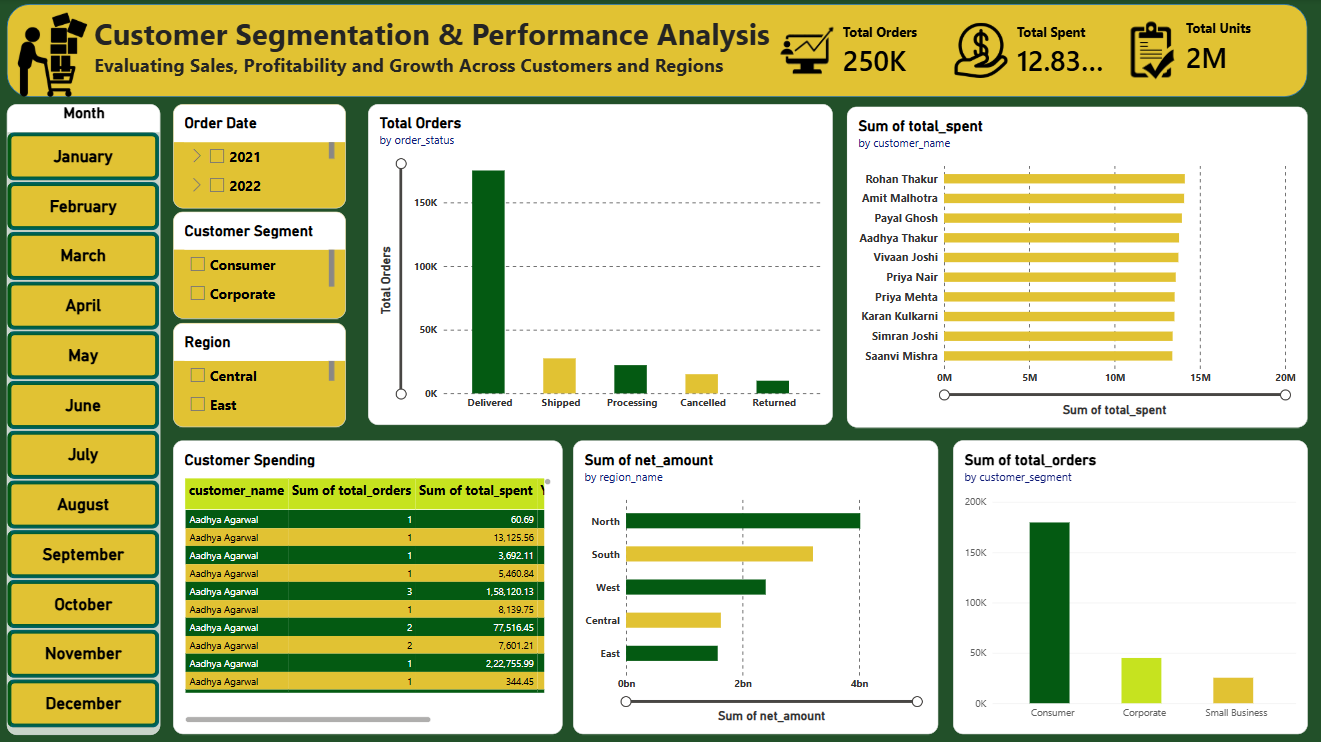

The page's visual inventory and layout, read from the dashboard file:
{"tool":"powerbi","page":{"name":"Customer & Regional Analysis","canvas":[1920,1080],"ordinal":2},"visuals":[{"type":"barChart","fields":{"Category":["gold_customer_performance.customer_name"],"Y":["Sum(gold_customer_performance.total_spent)"]},"box":[1229.2,155.1,666.9,465.2],"z":0},{"type":"lineStackedColumnComboChart","fields":{"Category":["gold_customer_performance.customer_segment"],"Y":["Sum(gold_customer_performance.total_orders)"]},"box":[1382.4,638.9,513.7,425.9],"z":1000},{"type":"clusteredBarChart","fields":{"Category":["gold_sales.region_name"],"Y":["Sum(gold_sales.net_amount)"]},"box":[833.2,638.9,528.7,425.9],"z":2000},{"type":"tableEx","title":"Customer Spending","fields":{"Values":["gold_customer_performance.customer_name","Sum(gold_customer_performance.total_orders)","Sum(gold_customer_performance.total_spent)","gold_customer_performance.last_order_date.Variation.Date Hierarchy.Year","gold_customer_performance.last_order_date.Variation.Date Hierarchy.Quarter","gold_customer_performance.last_order_date.Variation.Date Hierarchy.Month","gold_customer_performance.last_order_date.Variation.Date Hierarchy.Day"]},"box":[254.1,638.9,564.2,425.9],"z":3000},{"type":"clusteredColumnChart","fields":{"Category":["gold_sales.order_status"],"Y":["gold_sales.Total Orders"]},"box":[536.1,151.3,672.5,465.2],"z":4000},{"type":"advancedSlicerVisual","fields":{"Values":["gold_customer_performance.last_order_date.Variation.Date Hierarchy.Month"]},"box":[13.1,151.3,222.3,913.5],"z":5000},{"type":"shape","box":[13.1,7.5,1883,134.5],"z":6000},{"type":"slicer","title":"Order Date","fields":{"Values":["gold_customer_performance.last_order_date.Variation.Date Hierarchy.Year","gold_customer_performance.last_order_date.Variation.Date Hierarchy.Quarter","gold_customer_performance.last_order_date.Variation.Date Hierarchy.Month","gold_customer_performance.last_order_date.Variation.Date Hierarchy.Day"]},"box":[254.1,151.3,250.3,151.3],"z":7000},{"type":"slicer","title":"Customer Segment","fields":{"Values":["gold_customer_performance.customer_segment"]},"box":[254.1,308.2,250.3,155.1],"z":8000},{"type":"slicer","title":"Region","fields":{"Values":["gold_sales.region_name"]},"box":[254.1,468.9,250.3,151.3],"z":9000},{"type":"textbox","box":[140.1,20.5,999.4,121.4],"z":10000},{"type":"cardVisual","fields":{"Data":["Sum(gold_customer_performance.total_orders)","Sum(gold_customer_performance.total_spent)","Sum(gold_customer_performance.total_units_purchased)"]},"box":[1111.5,0,765.9,151.3],"z":11000},{"type":"image","box":[0,19.9,157.4,121.2],"z":12000}]}

Visuals, with their boxes in screenshot pixels (x1, y1, x2, y2), scaled from the page's 1920x1080 canvas onto the 1321x742 screenshot:
barChart - gold_customer_performance.customer_name x Sum(gold_customer_performance.total_spent): {"left": 846, "top": 107, "right": 1305, "bottom": 426}
lineStackedColumnComboChart - gold_customer_performance.customer_segment x Sum(gold_customer_performance.total_orders): {"left": 951, "top": 439, "right": 1305, "bottom": 732}
clusteredBarChart - gold_sales.region_name x Sum(gold_sales.net_amount): {"left": 573, "top": 439, "right": 937, "bottom": 732}
"Customer Spending" tableEx: {"left": 175, "top": 439, "right": 563, "bottom": 732}
clusteredColumnChart - gold_sales.order_status x gold_sales.Total Orders: {"left": 369, "top": 104, "right": 832, "bottom": 424}
advancedSlicerVisual - gold_customer_performance.last_order_date.Variation.Date Hierarchy.Month: {"left": 9, "top": 104, "right": 162, "bottom": 732}
shape: {"left": 9, "top": 5, "right": 1305, "bottom": 98}
"Order Date" slicer: {"left": 175, "top": 104, "right": 347, "bottom": 208}
"Customer Segment" slicer: {"left": 175, "top": 212, "right": 347, "bottom": 318}
"Region" slicer: {"left": 175, "top": 322, "right": 347, "bottom": 426}
textbox: {"left": 96, "top": 14, "right": 784, "bottom": 97}
cardVisual - Sum(gold_customer_performance.total_orders) x Sum(gold_customer_performance.total_spent): {"left": 765, "top": 0, "right": 1292, "bottom": 104}
image: {"left": 0, "top": 14, "right": 108, "bottom": 97}
